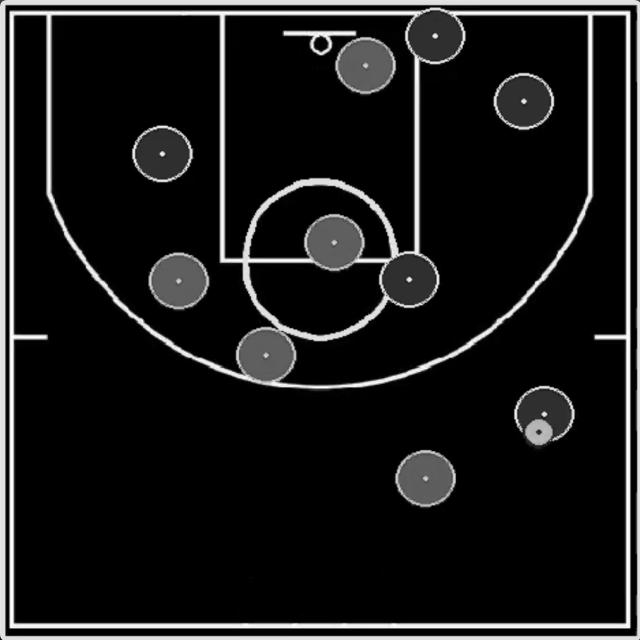Basketball: (524, 419, 553, 446)
Team_A: (132, 125, 193, 182), (494, 72, 553, 130), (406, 8, 466, 65), (379, 251, 439, 308), (515, 386, 575, 442)
Team_B: (395, 450, 456, 508), (149, 252, 209, 310), (235, 328, 297, 384), (305, 214, 364, 271), (335, 38, 395, 94)
